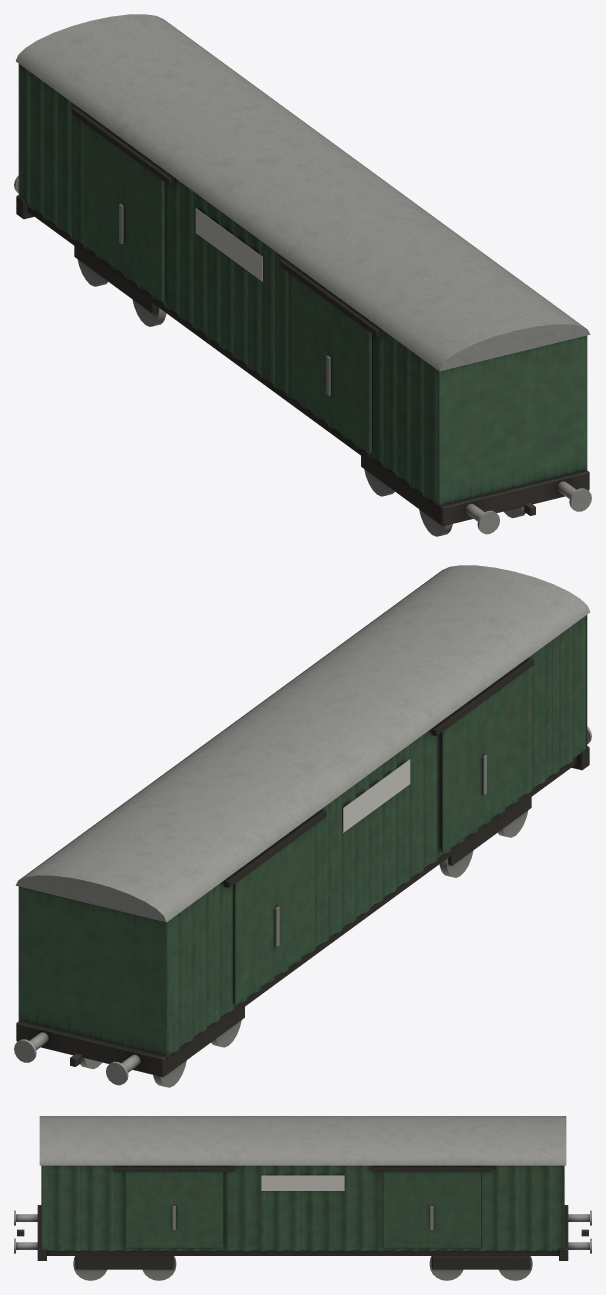
Rendered from wagon_green.glb.
3 renders of one model, top to bottom at view 1: azimuth 30°, elevation 25°; view 2: azimuth 150°, elevation 25°; view 3: azimuth 270°, elevation 25°, orthographic. The views are drawn at different scales.
Parts seen in each view (by area): view 1: wagon_green; view 2: wagon_green; view 3: wagon_green.
Boxes of the visible parts, x1=… form: wagon_green: x1=14, y1=14, x2=591, y2=536; wagon_green: x1=14, y1=565, x2=591, y2=1087; wagon_green: x1=14, y1=1116, x2=591, y2=1280.
Bounding box in the file's own units: 3 × 4.05 × 15.25.
Materials: 1 (1 with a texture image).
